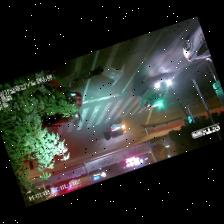person: (71, 66, 102, 82)
